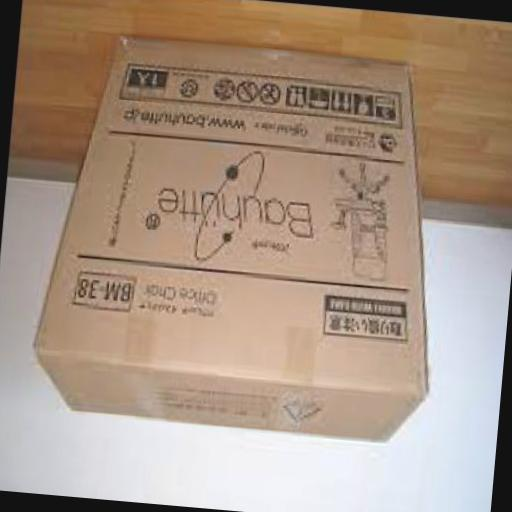cardboard: (29, 30, 456, 448)
